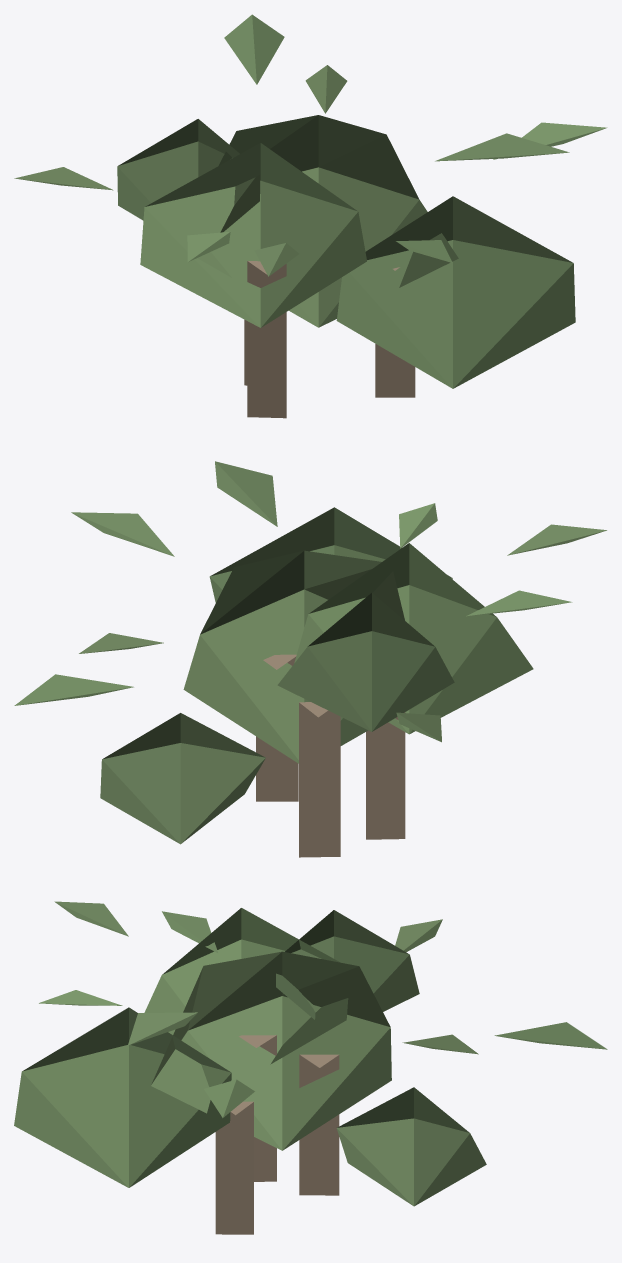
File: guan.zhizi@subadult__summer.glb
3 views of the same model, one above another, from view 1: azimuth 30°, elevation 25°; view 2: azimuth 150°, elevation 25°; view 3: azimuth 270°, elevation 25° (orthographic). The views are drawn at different scales.
Visible parts, largest first — view 1: guan.zhizi@subadult__summer; view 2: guan.zhizi@subadult__summer; view 3: guan.zhizi@subadult__summer.
Boxes of the visible parts, box(x1,y1,x2,y2) form: guan.zhizi@subadult__summer: box(14, 14, 607, 418); guan.zhizi@subadult__summer: box(14, 461, 606, 857); guan.zhizi@subadult__summer: box(14, 901, 607, 1234).
Bounding box in the file's own units: 1.38 × 0.8008 × 1.59.
